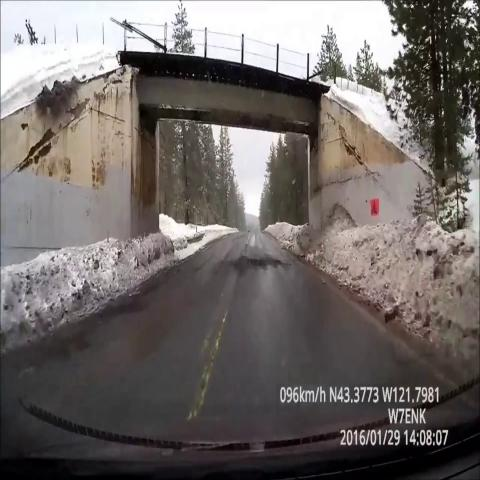pothole: (222, 241, 289, 287)
